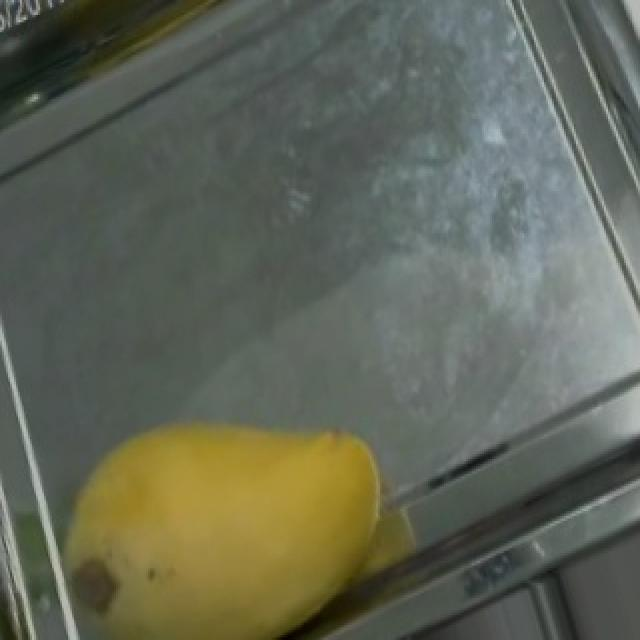fruit: (50, 354, 466, 640)
